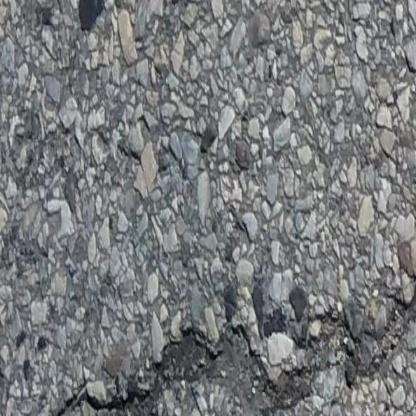Cracks: (8, 246, 416, 416)
